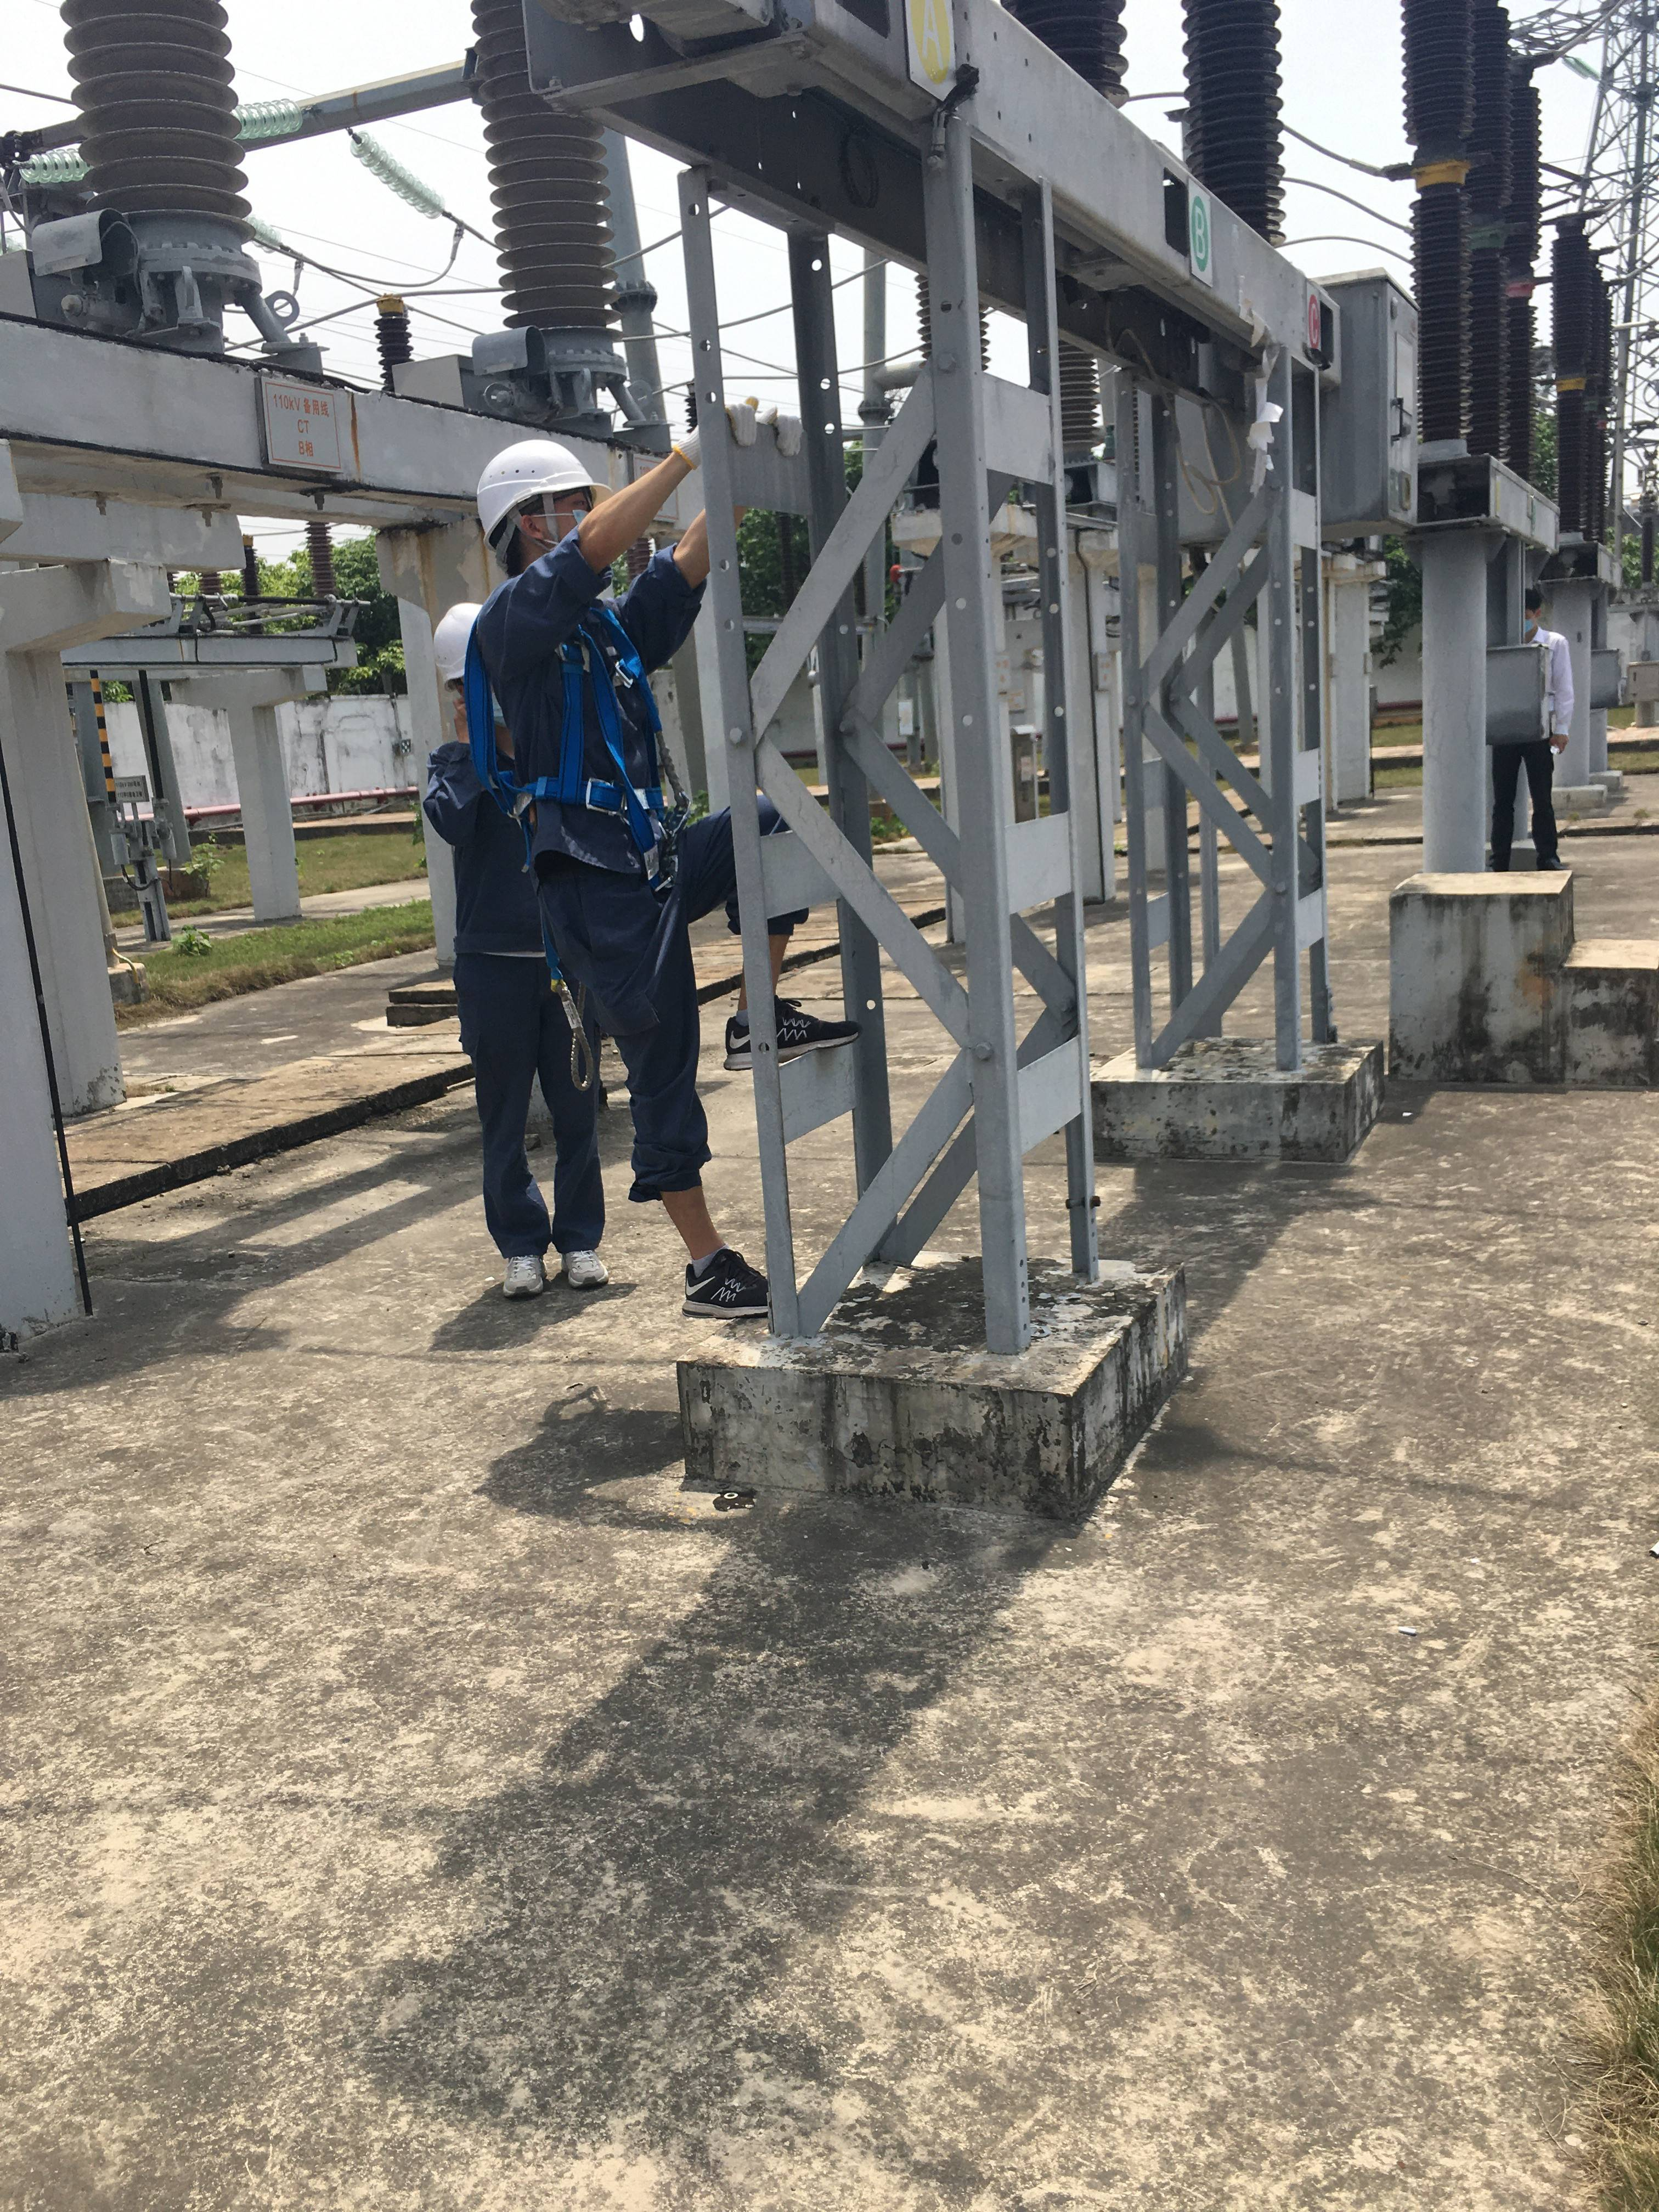downcloth: (1495, 740, 1561, 855)
downsuit: (544, 831, 730, 1221), (453, 974, 610, 1251)
upcloth: (1506, 634, 1572, 738)
upsuit: (458, 554, 706, 850)
wrongbottom: (634, 1136, 728, 1266)
